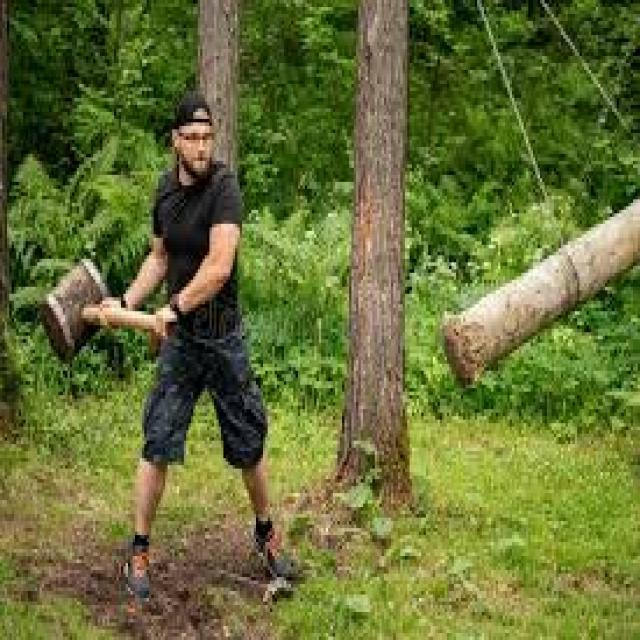hammer: (31, 244, 183, 360)
